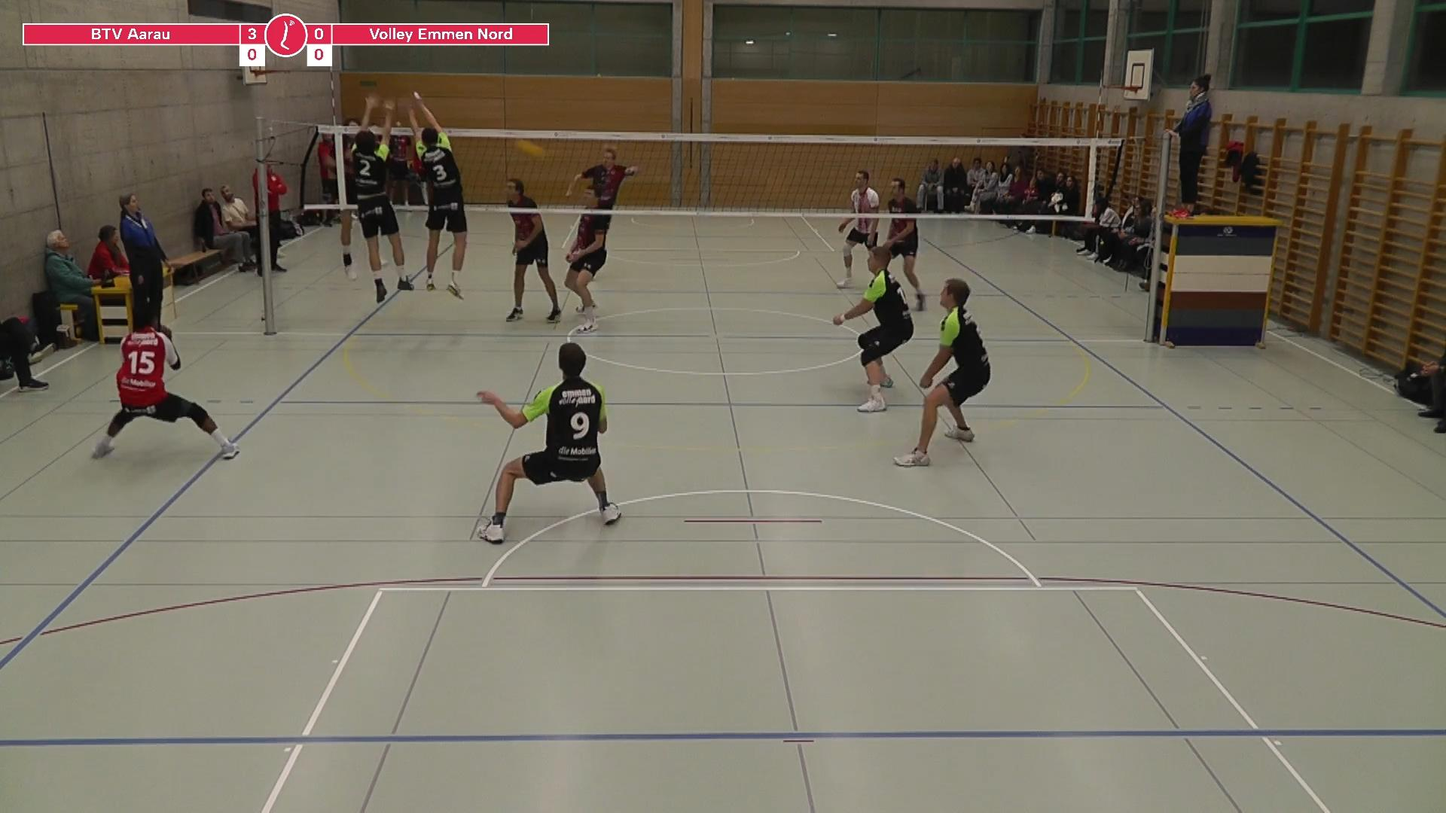attacco: (321, 97, 368, 283)
muro: (401, 93, 479, 299), (335, 91, 408, 288)
